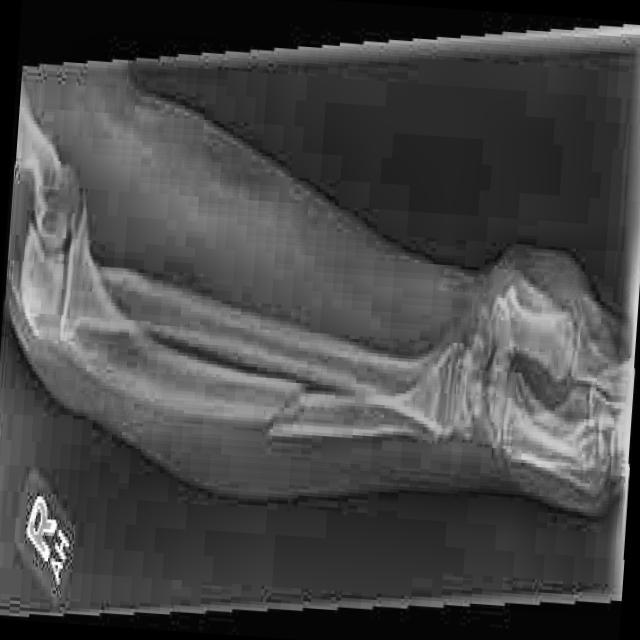forearm fracture: (247, 352, 339, 469)
